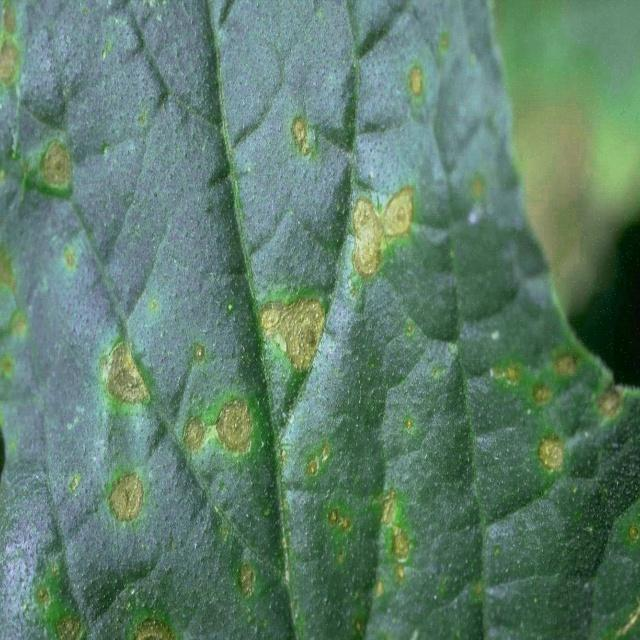leaf_spot: (8, 4, 635, 636)
